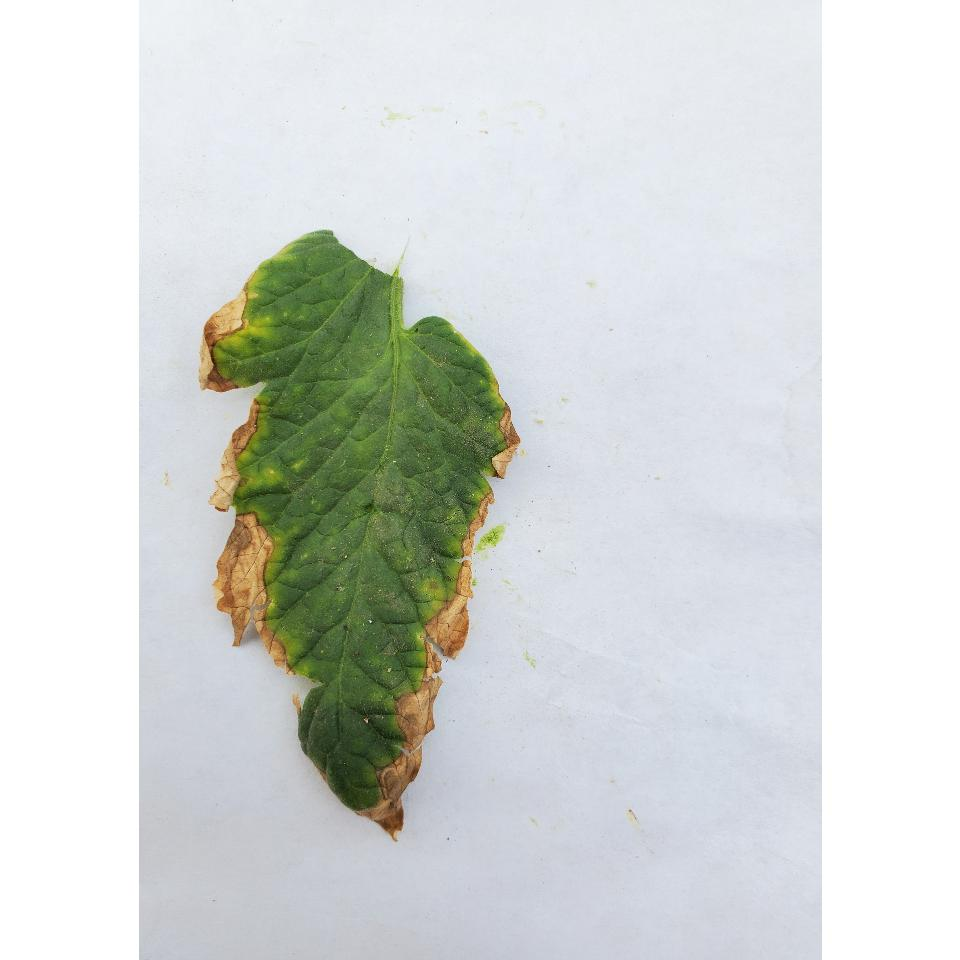tomato_bacterial_blight: (189, 203, 521, 854)
